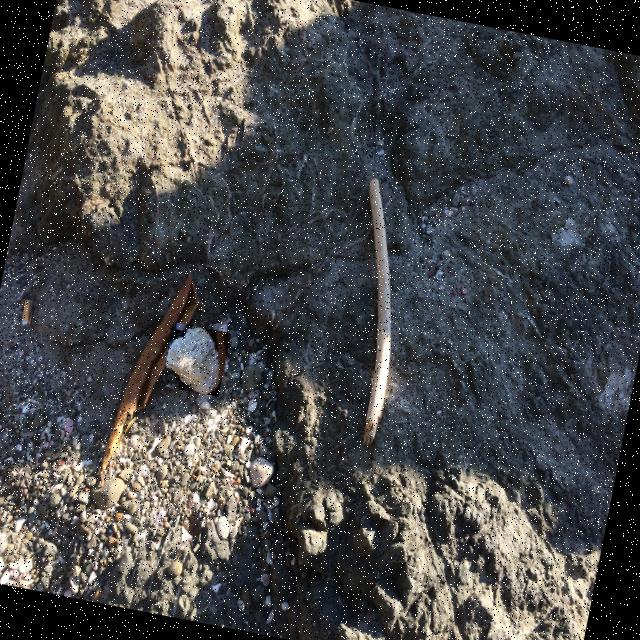Cigarette: (24, 300, 32, 326)
Styrofoam piece: (165, 327, 221, 395)
